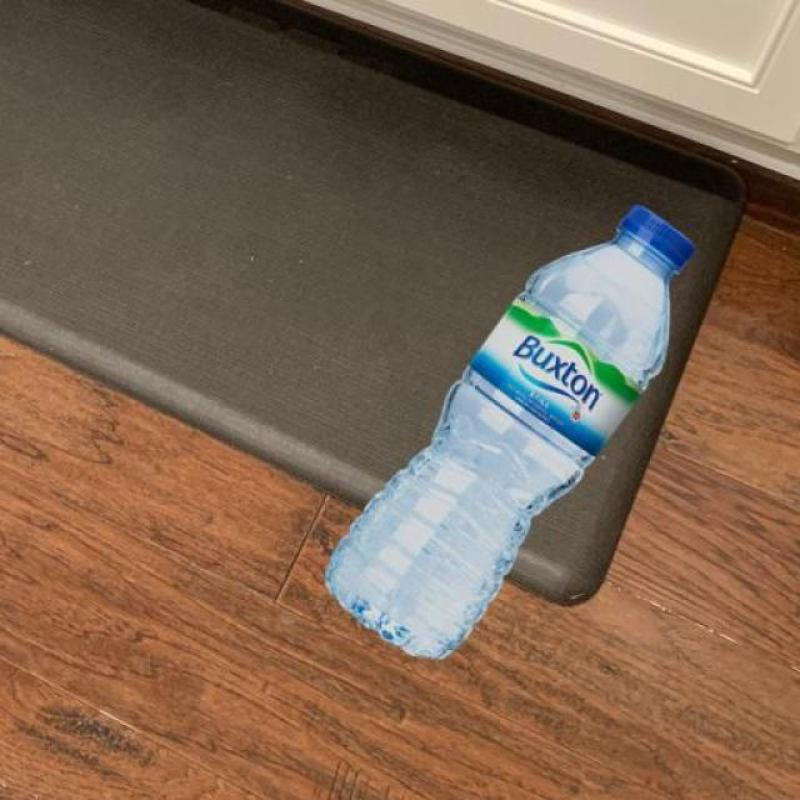botella: (322, 206, 693, 664)
